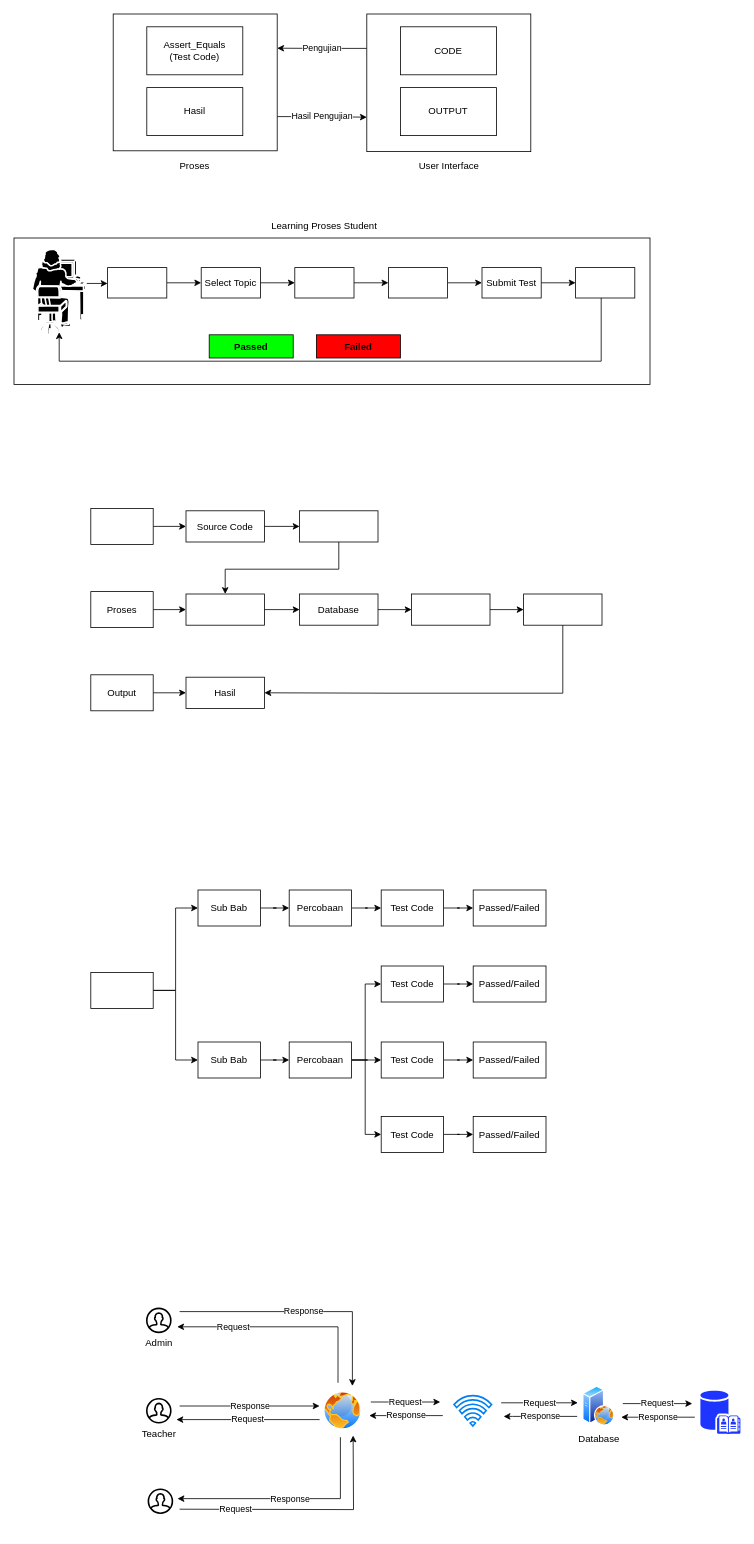
This 754x1544 diagram has some shape labels left out. The shapes that lost their labels are listed below. From the top down, each one's box as (x1, y1, x2, y2) in pixels, then its label:
(107, 267, 167, 298): Start
(294, 267, 354, 298): Select Test
(388, 267, 448, 298): Solve Test
(575, 267, 635, 298): Get Result
(90, 508, 153, 544): Input
(299, 510, 378, 542): Submit
(185, 593, 264, 625): Codewars Test
(411, 593, 490, 625): Testing
(523, 593, 602, 625): Simpan
(90, 972, 153, 1008): BAB
(453, 1394, 492, 1426): Internet
(700, 1390, 740, 1434): Guide
(147, 1488, 173, 1514): Student
